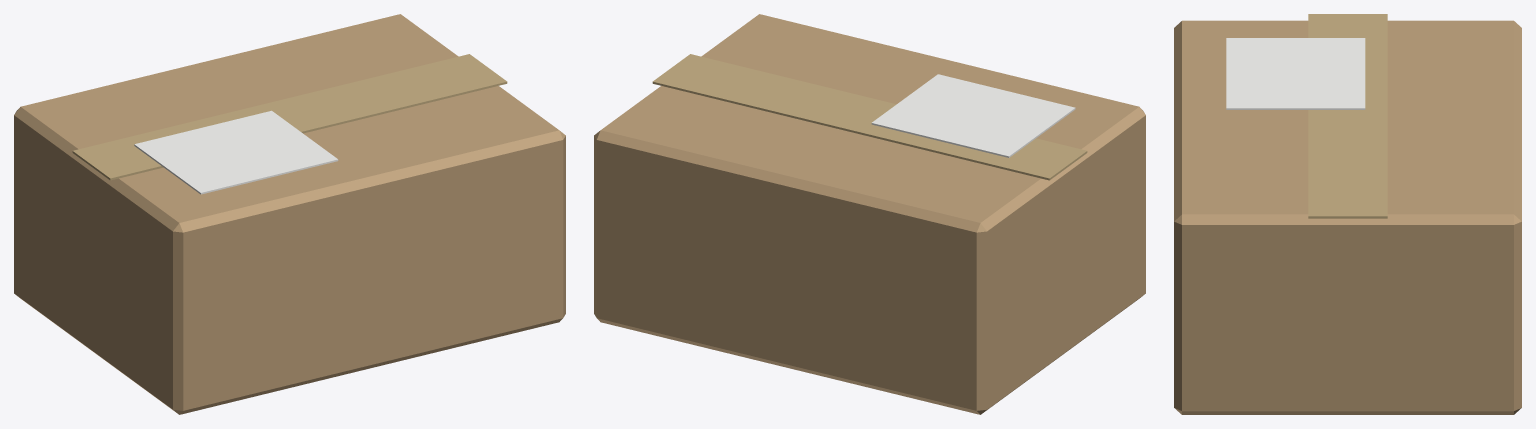
Rendered from tsorter_parcel_box_s.fbx.
3 renders of one model, left to right at view 1: azimuth 30°, elevation 25°; view 2: azimuth 150°, elevation 25°; view 3: azimuth 270°, elevation 25°, orthographic. The views are drawn at different scales.
Parts seen in each view (by area): view 1: Parcel_box_s; view 2: Parcel_box_s; view 3: Parcel_box_s.
Boxes of the visible parts, x1=… form: Parcel_box_s: x1=14, y1=14, x2=565, y2=414; Parcel_box_s: x1=594, y1=14, x2=1145, y2=414; Parcel_box_s: x1=1174, y1=14, x2=1521, y2=414.
Size of the model in its own units: 0.303 by 0.143 by 0.22.
